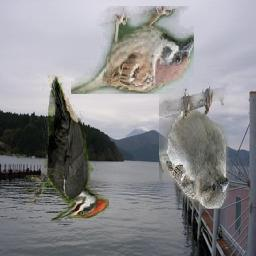Sparrow: (72, 6, 195, 94), (159, 83, 229, 209)
Woodpecker: (27, 75, 110, 221)
